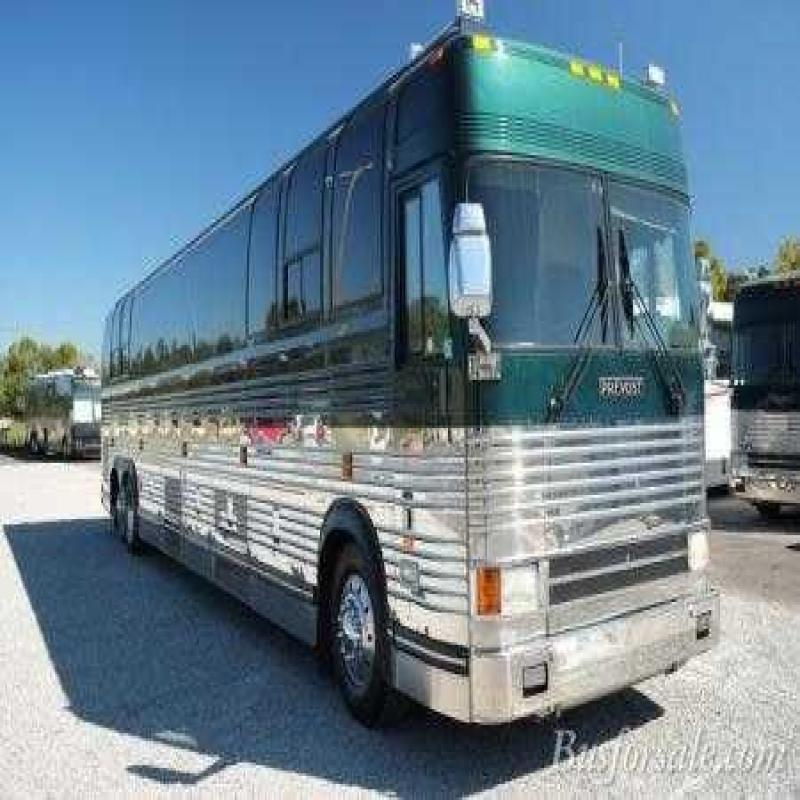bus: (36, 0, 761, 762)
